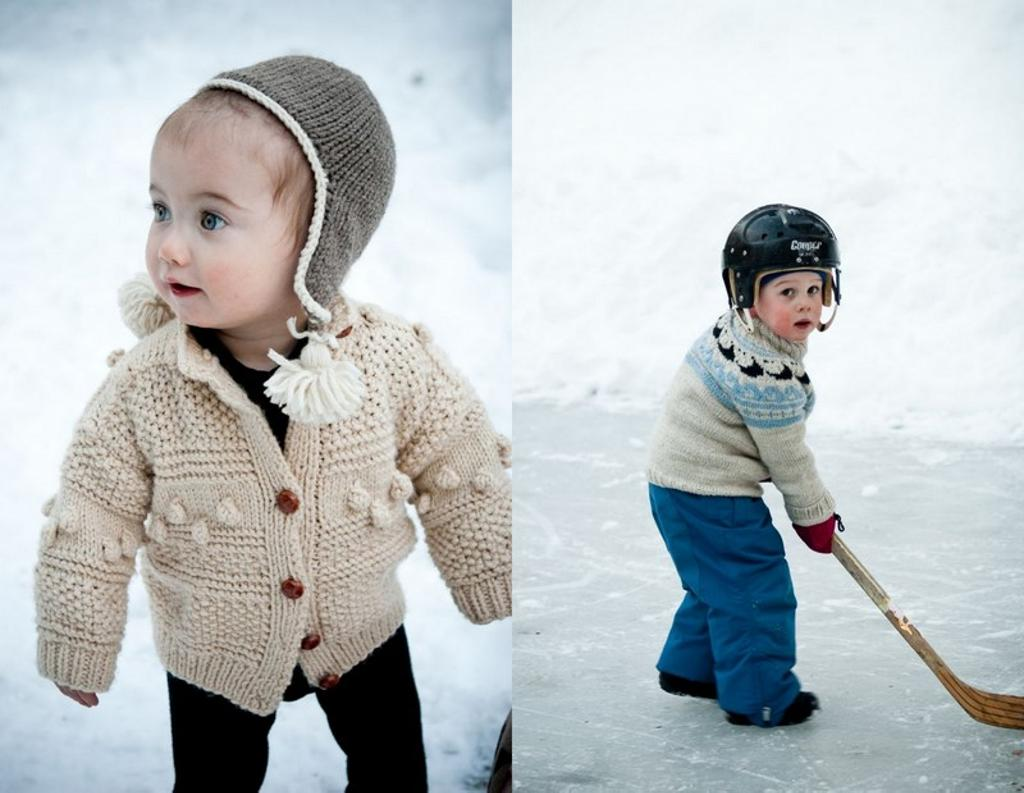face: (150, 138, 296, 330), (756, 260, 822, 342)
